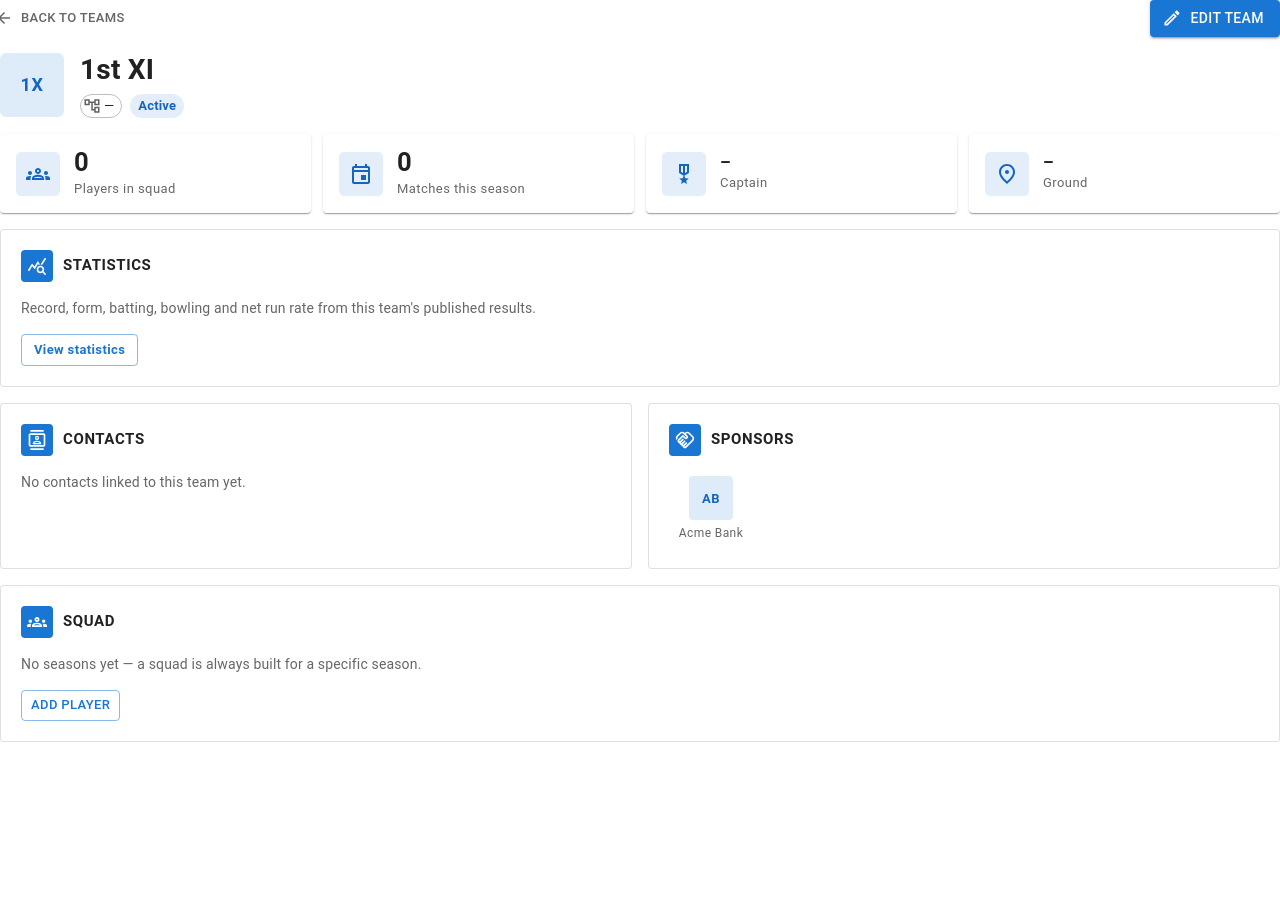
Test: TeamDetailPage › lists the sponsor's own named contacts inside the Sponsors quick-view dialog
Expected: the heading "1st XI" is shown, [80,52,154,86]
Click the button with aria-label "Acme Bank — Sponsor" at (711, 510), box [669,472,753,548]
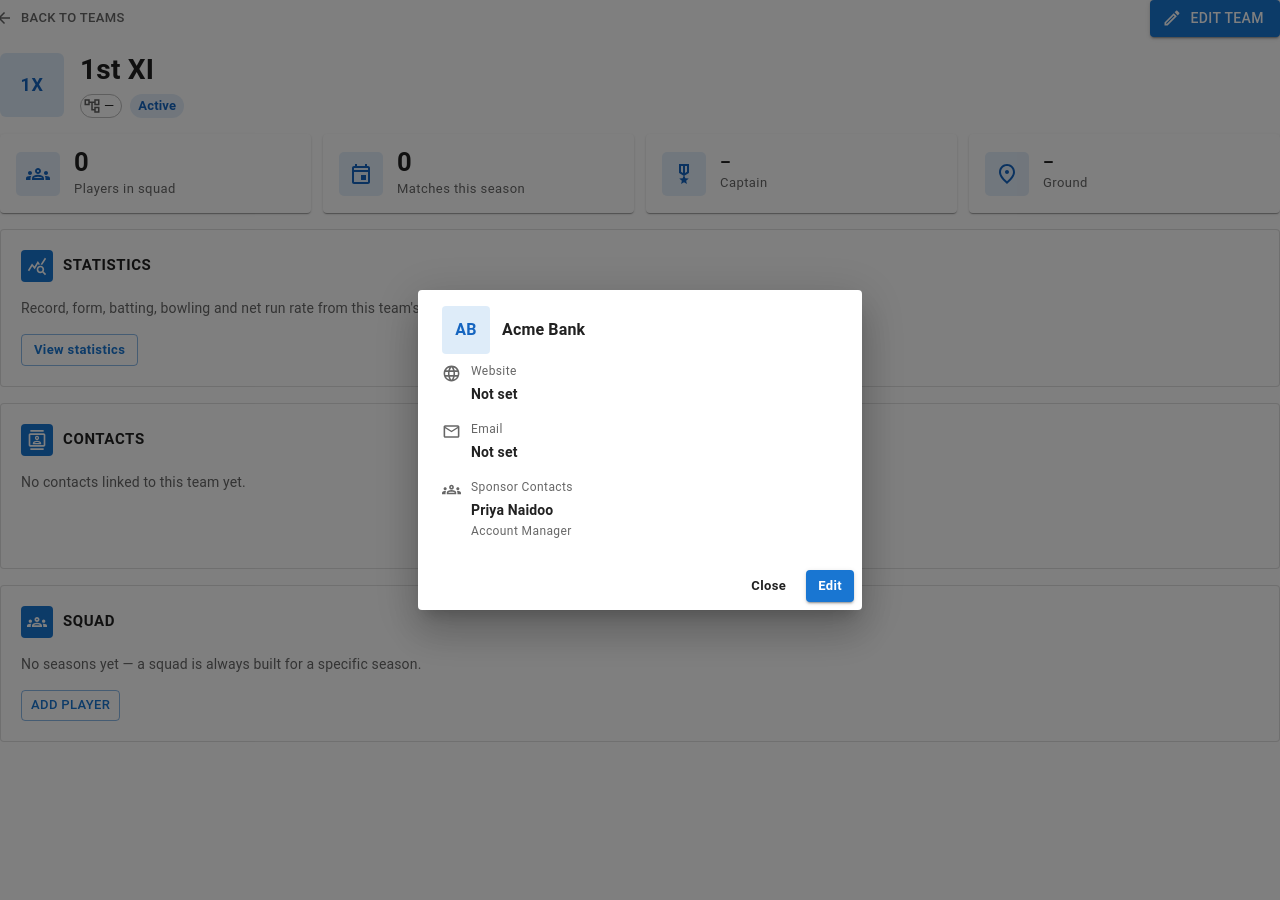
Result: the text "Priya Naidoo" is shown at [471,502,554,518]
Result: the text "Account Manager" is shown at [471,524,572,538]
